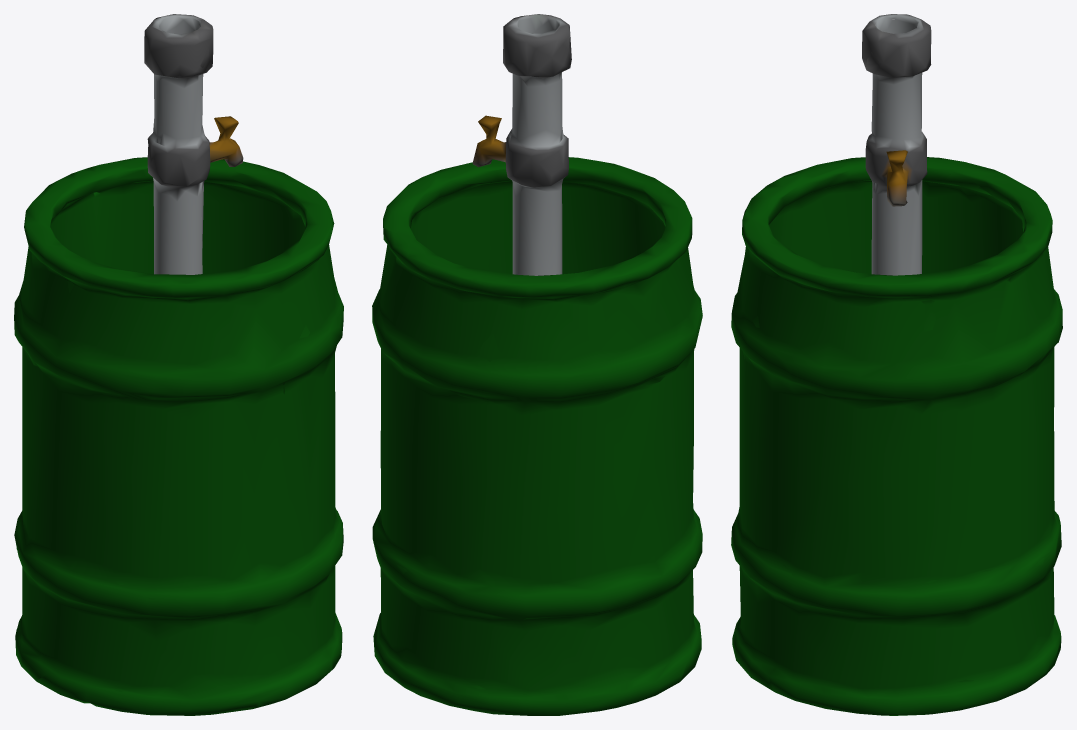
The model's file is gen3d-rain-barrel-lod0.glb.
3 renders of one model, left to right at view 1: azimuth 30°, elevation 25°; view 2: azimuth 150°, elevation 25°; view 3: azimuth 270°, elevation 25°, orthographic.
Visible parts, largest first — view 1: part_0; view 2: part_0; view 3: part_0.
Boxes of the visible parts, x1=… form: part_0: x1=14, y1=14, x2=343, y2=715; part_0: x1=372, y1=14, x2=702, y2=715; part_0: x1=731, y1=14, x2=1062, y2=715.
Bounding box in the file's own units: 0.4818 × 1 × 0.4821.
